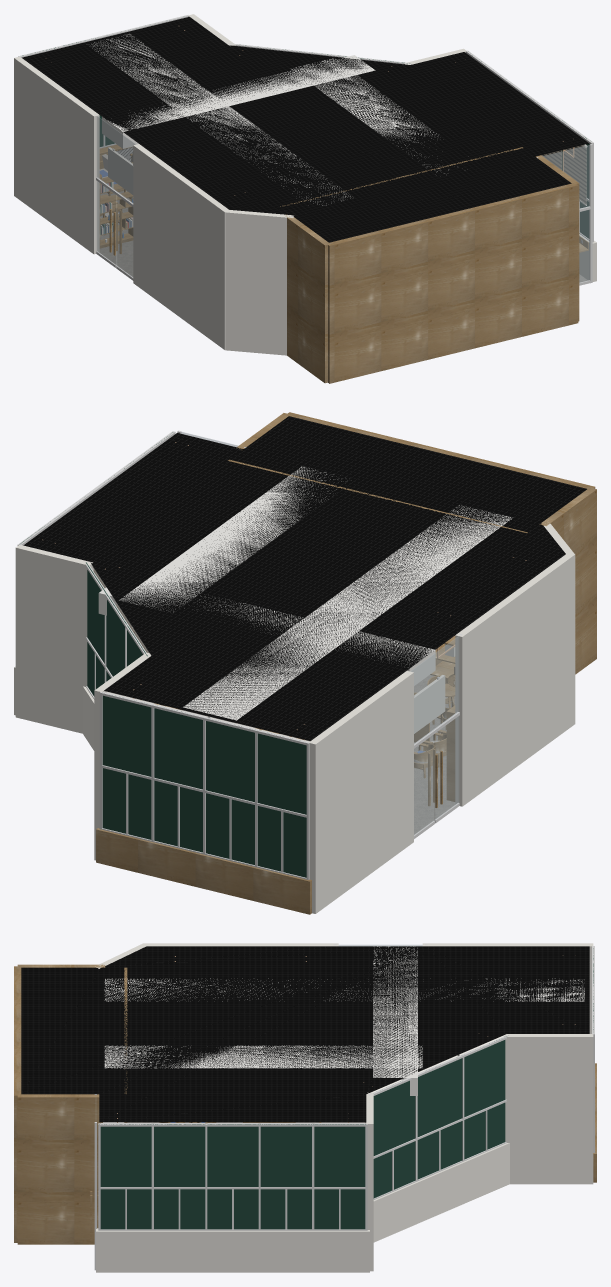
Rendered from coffee_shop.fbx.
3 views of the same model, one above another, from view 1: azimuth 30°, elevation 25°; view 2: azimuth 150°, elevation 25°; view 3: azimuth 270°, elevation 25° (orthographic). The views are drawn at different scales.
Visible parts, largest first — view 1: Ceiling_Grid, Wall_7, Wall_10, Wall_12, Ceiling_Soffits, Wall_9, Wall_8, Door_door_left, Wall_Window_4, Door_door_right, Divider_Bookshelf, Wall_Window_0 (+3 smaller); view 2: Ceiling_Grid, Wall_Window_0, Ceiling_Soffits, Wall_10, Wall_12, Wall_3, Door_door_left, Wall_Window_2, Wall_8, Floor, Wall_7, Wall_1 (+4 smaller); view 3: Ceiling_Grid, Wall_Window_4, Wall_Window_2, Wall_1, Wall_6, Ceiling_Soffits, Wall_7, Wall_3, Wall_12, Wall_Window_0, Wall_10, Door_door_right.
Boxes of the visible parts, left/top/right/bottom form: Ceiling_Grid: left=22, top=17, right=588, bottom=242; Wall_7: left=326, top=183, right=578, bottom=383; Wall_10: left=133, top=144, right=230, bottom=349; Wall_12: left=14, top=56, right=99, bottom=254; Ceiling_Soffits: left=91, top=34, right=448, bottom=205; Wall_9: left=224, top=210, right=293, bottom=355; Wall_8: left=285, top=214, right=328, bottom=383; Door_door_left: left=95, top=114, right=137, bottom=280; Wall_Window_4: left=466, top=50, right=596, bottom=281; Door_door_right: left=537, top=144, right=592, bottom=285; Divider_Bookshelf: left=99, top=177, right=133, bottom=248; Wall_Window_0: left=18, top=15, right=188, bottom=169; Ceiling_Grid: left=23, top=416, right=586, bottom=740; Wall_Window_0: left=96, top=691, right=311, bottom=914; Ceiling_Soffits: left=98, top=466, right=512, bottom=727; Wall_10: left=455, top=552, right=574, bottom=806; Wall_12: left=309, top=671, right=413, bottom=913; Wall_3: left=15, top=544, right=93, bottom=733; Door_door_left: left=407, top=634, right=462, bottom=838; Wall_Window_2: left=82, top=562, right=149, bottom=750; Wall_8: left=539, top=488, right=596, bottom=674; Floor: left=305, top=675, right=455, bottom=834; Wall_7: left=288, top=412, right=595, bottom=489; Wall_1: left=94, top=652, right=153, bottom=860; Ceiling_Grid: left=21, top=946, right=589, bottom=1122; Wall_Window_4: left=96, top=1123, right=369, bottom=1272; Wall_Window_2: left=365, top=1035, right=509, bottom=1242; Wall_1: left=503, top=1034, right=593, bottom=1184; Wall_6: left=17, top=1094, right=102, bottom=1244; Ceiling_Soffits: left=104, top=946, right=584, bottom=1095; Wall_7: left=14, top=966, right=21, bottom=1242; Wall_3: left=366, top=1092, right=373, bottom=1271; Wall_12: left=422, top=943, right=593, bottom=1055; Wall_Window_0: left=592, top=946, right=596, bottom=1182; Wall_10: left=142, top=943, right=338, bottom=946; Door_door_right: left=90, top=1094, right=98, bottom=1270.
Size of the model in its own units: 1199 by 450 by 1615.
58 materials, 13 textured.
